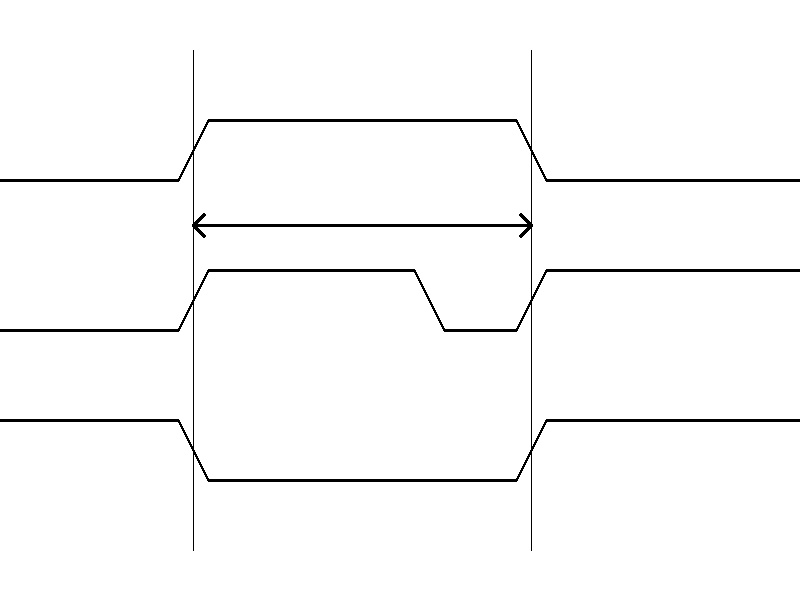double_arrow: (193, 210, 531, 240)
